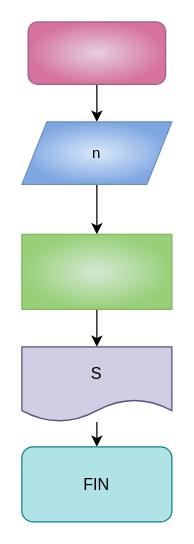
Some shapes in this 194 by 544 pixel diagram are drawn without their labels. Each missing label, with the box of its shape:
INICIO: (27, 21, 166, 84)
S= n (n+1) 2: (21, 233, 172, 309)
